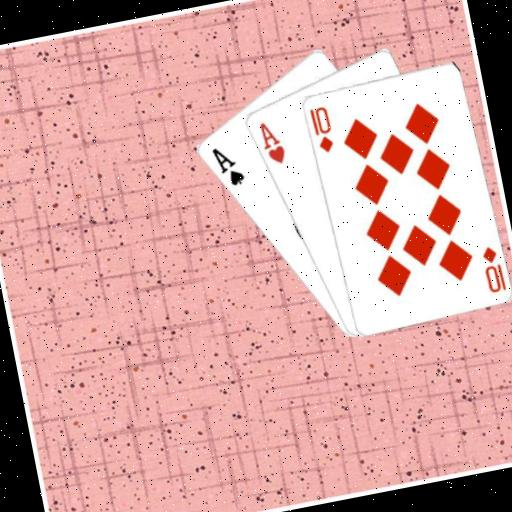10D: (306, 102, 337, 156), (477, 241, 508, 295)
AH: (255, 116, 288, 168)
AS: (207, 140, 247, 191)
